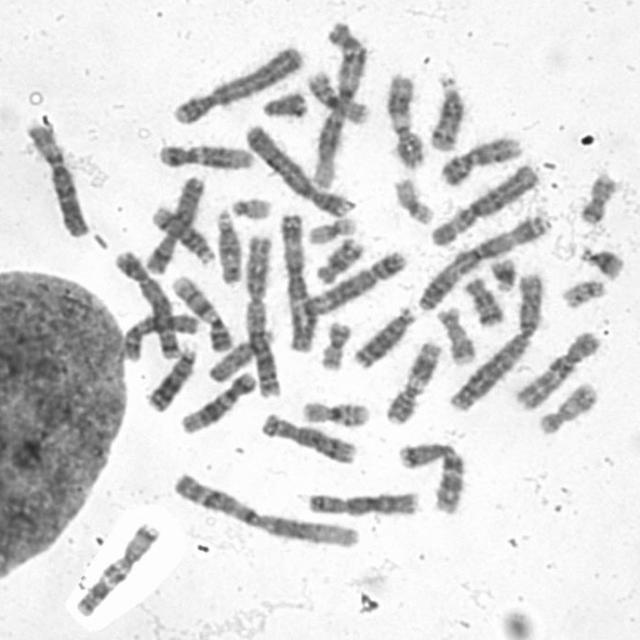A1: (165, 465, 362, 551), (305, 13, 370, 192)
A2: (442, 264, 547, 412), (238, 228, 284, 400)
A3: (412, 208, 554, 312), (274, 205, 318, 353)
B4: (166, 37, 307, 126), (238, 116, 355, 219)
B5: (288, 244, 409, 322), (108, 243, 184, 361)
C10: (508, 323, 604, 411), (116, 306, 201, 362)
C11: (378, 333, 444, 426), (379, 65, 428, 170)
C12: (174, 364, 259, 435), (152, 136, 258, 171)
C6: (424, 155, 544, 248), (19, 112, 92, 239)
C7: (68, 515, 163, 618), (391, 433, 468, 516)
C8: (254, 406, 359, 465), (300, 483, 422, 518)
C9: (166, 269, 236, 353), (434, 128, 524, 187)
D13: (346, 299, 418, 370), (139, 336, 201, 413)
D14: (144, 199, 217, 267), (422, 67, 468, 153)
D15: (201, 321, 279, 383), (210, 203, 245, 286)
E16: (300, 62, 373, 126), (295, 393, 373, 428)
E17: (532, 375, 601, 436), (431, 300, 479, 365)
E18: (309, 230, 366, 286), (458, 270, 508, 328)
F19: (386, 170, 437, 226), (301, 208, 359, 246)
F20: (573, 166, 620, 226), (314, 313, 354, 372)
G21: (578, 240, 627, 282), (483, 249, 521, 294)
G22: (554, 271, 610, 310), (225, 190, 275, 220)
X: (138, 168, 208, 276)
Y: (256, 84, 311, 119)
